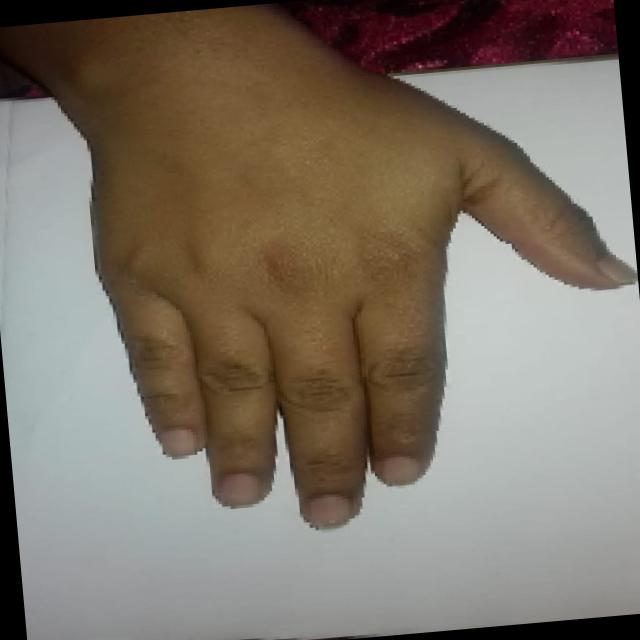Nail: (307, 493, 349, 528), (157, 426, 202, 457), (219, 472, 259, 506), (596, 254, 638, 284), (379, 455, 420, 485)
